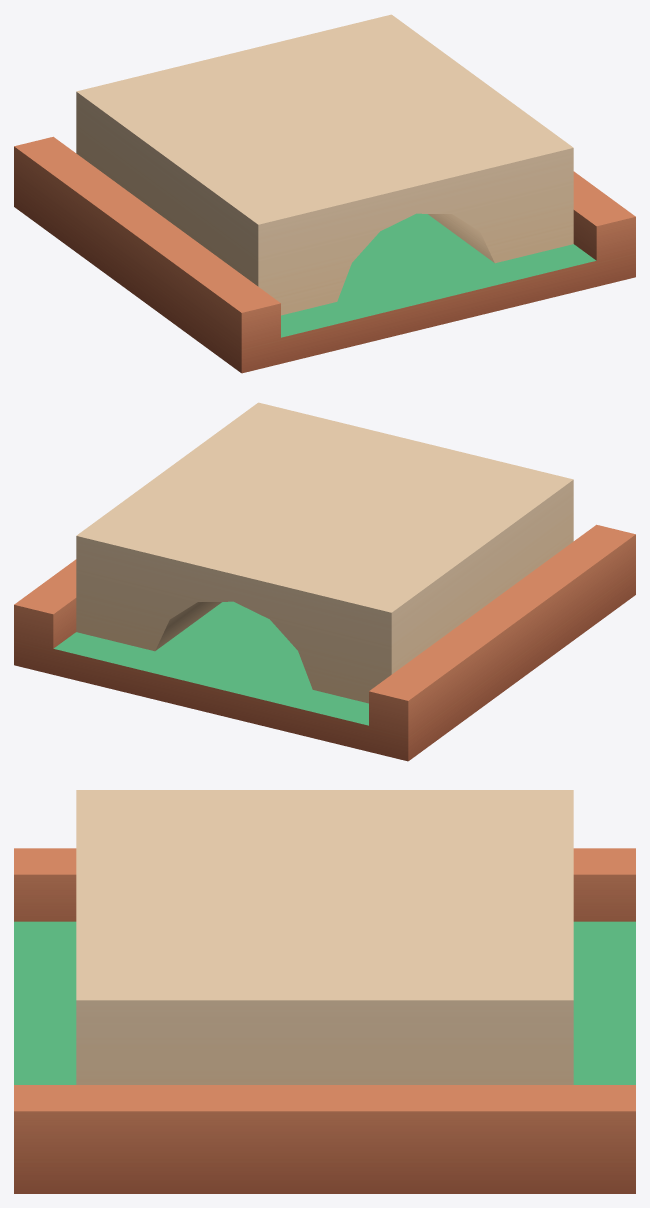
Rendered from tunnel-wide.glb.
The picture shows the model from 3 angles, top to bottom: view 1: azimuth 30°, elevation 25°; view 2: azimuth 150°, elevation 25°; view 3: azimuth 270°, elevation 25°; orthographic projection. The views are drawn at different scales.
Parts seen in each view (by area): view 1: tunnel-wide; view 2: tunnel-wide; view 3: tunnel-wide.
Part boxes in pixels (left/top/right/bottom): tunnel-wide: left=14, top=14, right=635, bottom=373; tunnel-wide: left=14, top=402, right=635, bottom=761; tunnel-wide: left=14, top=790, right=635, bottom=1193.
Bounding box in the file's own units: 0.9999 × 0.2966 × 0.9999.
1 material, 1 textured.
